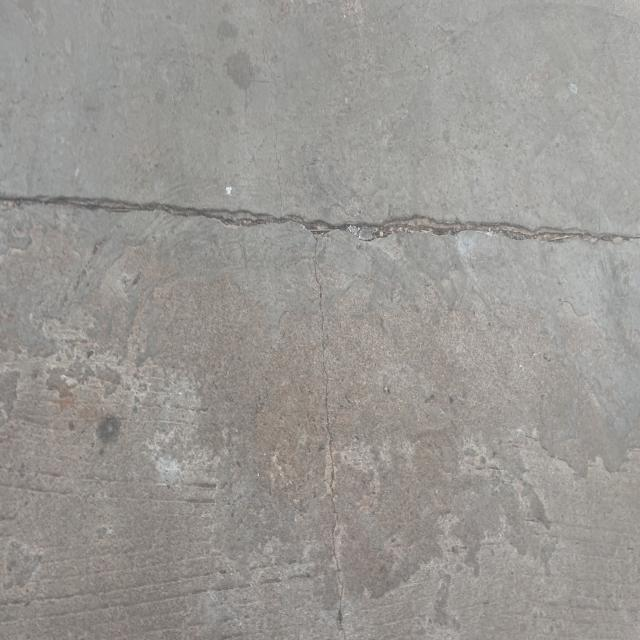D43: (40, 156, 640, 284)
